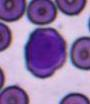M: (23, 27, 66, 78)
